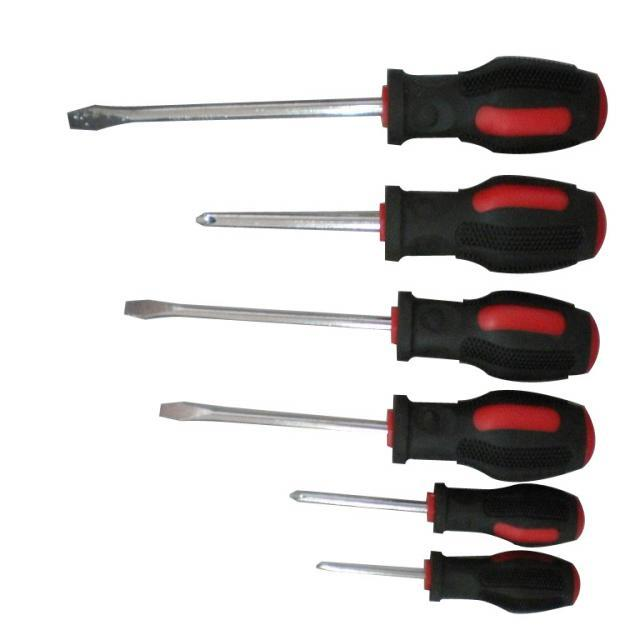screwdriver: (60, 48, 612, 162), (118, 282, 602, 386), (193, 164, 609, 276), (154, 386, 600, 484), (284, 482, 590, 550), (312, 549, 585, 619)
